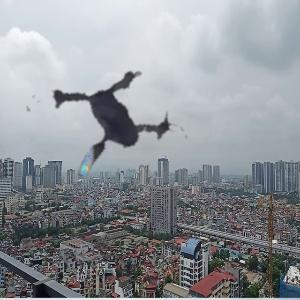drone: (2, 44, 193, 235)
